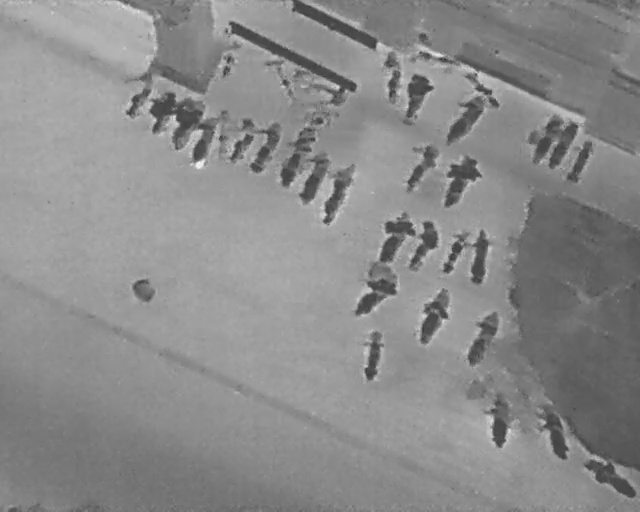Bicycle: (429, 144, 491, 217), (305, 156, 364, 230), (433, 85, 496, 153), (341, 264, 406, 329), (366, 204, 424, 272), (454, 301, 509, 372), (390, 131, 447, 199), (407, 280, 462, 350), (157, 90, 211, 157), (396, 215, 449, 278), (287, 145, 339, 209), (577, 448, 639, 501), (238, 115, 289, 178), (532, 393, 576, 465), (179, 109, 227, 173), (524, 108, 569, 170), (268, 134, 316, 192), (217, 112, 263, 171), (394, 68, 440, 126), (137, 83, 183, 140), (541, 115, 584, 175), (434, 227, 475, 280), (480, 388, 515, 449), (561, 136, 598, 188), (356, 325, 388, 382), (465, 228, 493, 288), (119, 81, 154, 122), (271, 63, 300, 104), (382, 64, 405, 105), (217, 112, 233, 163), (303, 105, 331, 134), (218, 50, 237, 80)
